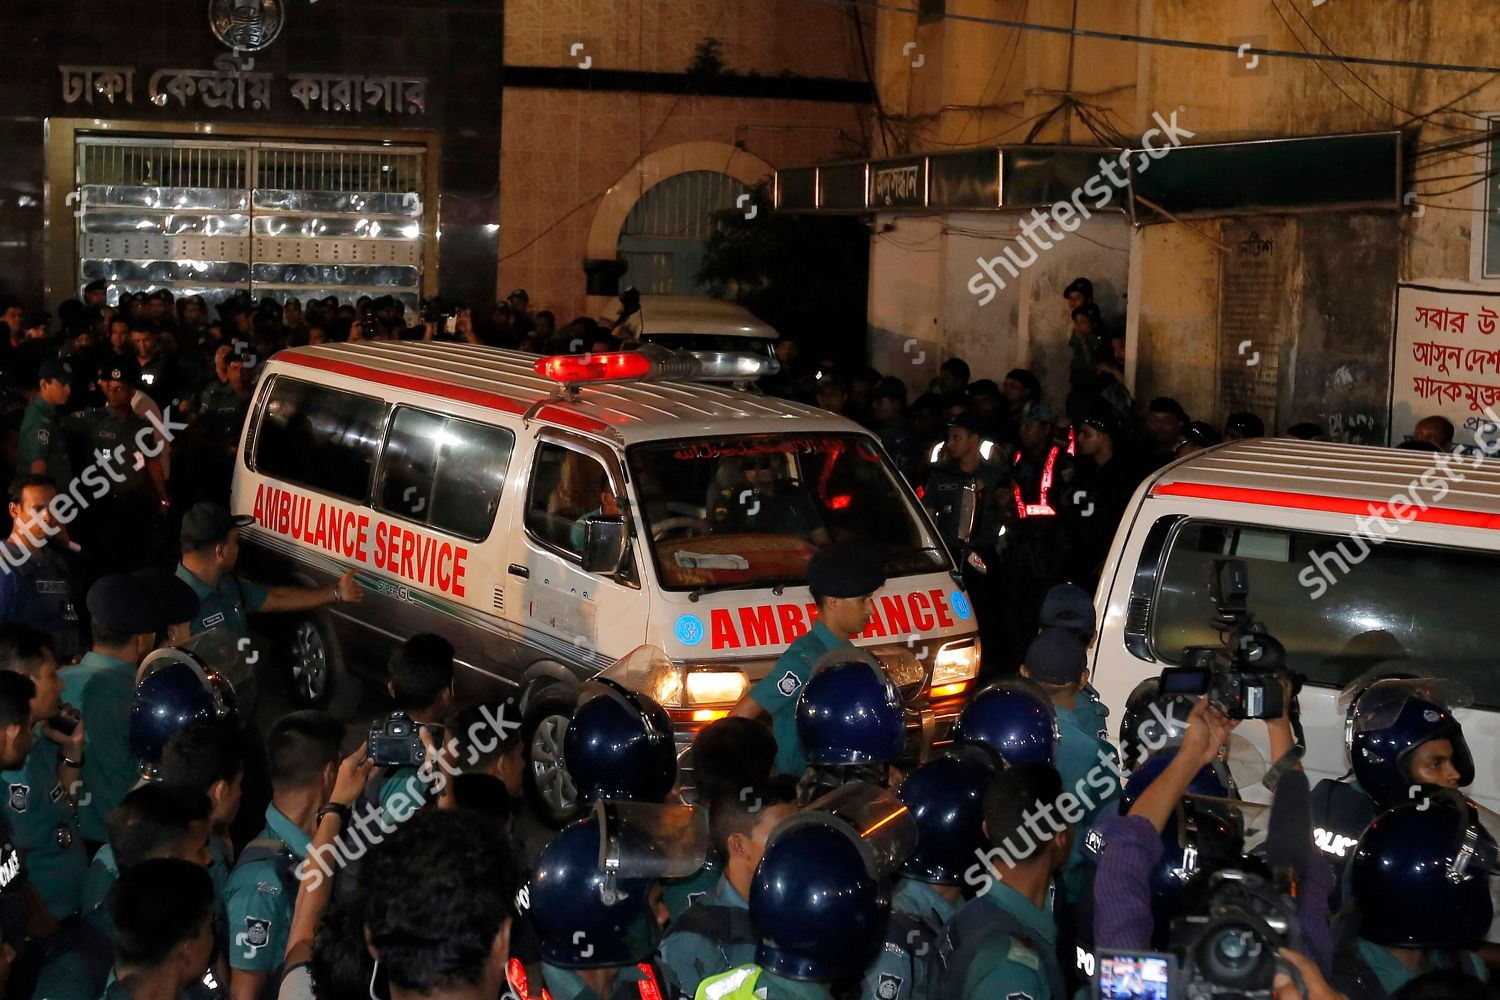ambulance: (229, 335, 985, 750)
